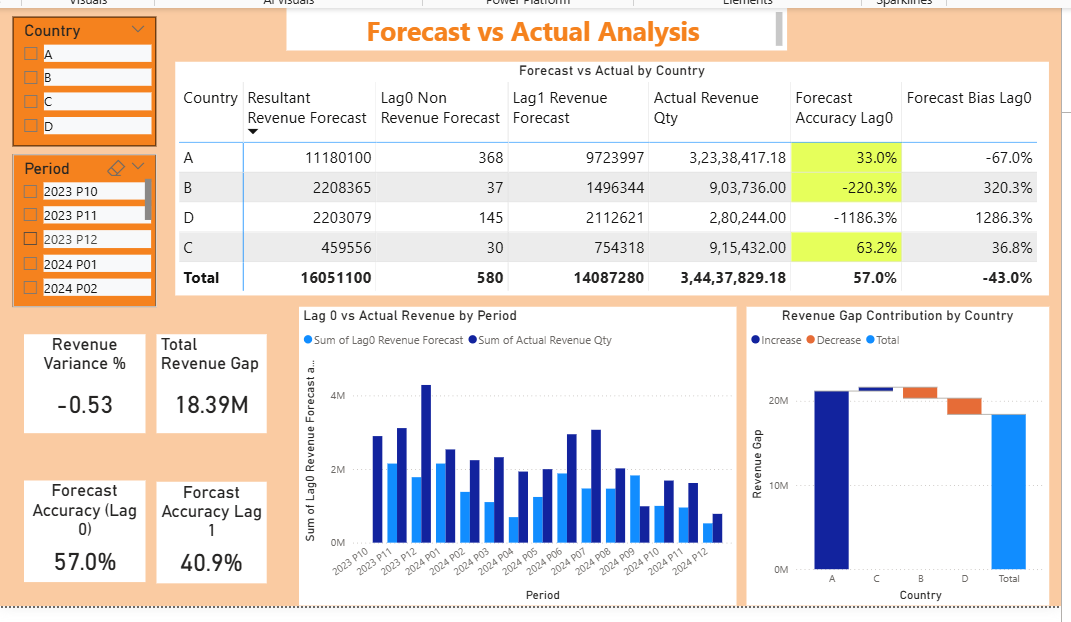

What the dashboard file says about the page in this screenshot:
{"tool":"powerbi","page":{"name":"Forecast vs Actual","canvas":[1280,720],"ordinal":1},"visuals":[{"type":"slicer","fields":{"Values":["DimCountry.Country"]},"box":[17.1,10,172.9,155.7],"z":0},{"type":"slicer","fields":{"Values":["DimPeriod.Period"]},"box":[17.1,175.7,172.9,184.3],"z":1000},{"type":"card","title":"Forecast Accuracy (Lag 0)","fields":{"Values":["ForecastWide.Forecast Accuracy Lag0"]},"box":[30.1,569.4,146.1,122],"z":2000},{"type":"pivotTable","title":"Forecast vs Actual by Country","fields":{"Rows":["DimCountry.Country"],"Values":["Sum(ForecastWide.Resultant Revenue Forecast)","Sum(ForecastWide.Lag0 Non Revenue Forecast)","Sum(ForecastWide.Lag1 Revenue Forecast)","Sum(ForecastWide.Actual Revenue Qty)","ForecastWide.Forecast Accuracy Lag0","ForecastWide.Forecast Bias Lag0"]},"box":[212.9,64.3,1052.9,281.4],"z":4000},{"type":"clusteredColumnChart","title":"Lag 0 vs Actual Revenue by Period","fields":{"Category":["DimPeriod.Period"],"Y":["Sum(ForecastWide.Lag0 Revenue Forecast)","Sum(ForecastWide.Actual Revenue Qty)"]},"box":[361.5,360,527.2,360],"z":5000},{"type":"textbox","box":[345.7,0,602.9,51.4],"z":11000},{"type":"card","title":"Forcast Accuracy Lag 1","fields":{"Values":["ForecastWide.Forecast Accuracy Lag1"]},"box":[189.8,570.9,132.5,122],"z":12001},{"type":"waterfallChart","title":"Revenue Gap Contribution by Country","fields":{"Category":["DimCountry.Country"],"Y":["ForecastWide.Revenue Gap"]},"box":[900.7,360,364.5,360],"z":12003},{"type":"card","title":"Total Revenue Gap","fields":{"Values":["ForecastWide.Revenue Gap"]},"box":[189.8,393.1,132.5,119],"z":12004},{"type":"card","title":"Revenue Variance %","fields":{"Values":["ForecastWide.Revenue Variance %"]},"box":[30.1,393.1,146.1,119],"z":12005}]}

Visuals, with their boxes on the page's 1280x720 design canvas (x1, y1, x2, y2). These are canvas units, not pixel positions in the 1071x622 screenshot, which may show the page scaled, cropped or inside an application window:
slicer - DimCountry.Country: detection(17, 10, 190, 166)
slicer - DimPeriod.Period: detection(17, 176, 190, 360)
"Forecast Accuracy (Lag 0)" card: detection(30, 569, 176, 691)
"Forecast vs Actual by Country" pivotTable: detection(213, 64, 1266, 346)
"Lag 0 vs Actual Revenue by Period" clusteredColumnChart: detection(362, 360, 889, 720)
textbox: detection(346, 0, 949, 51)
"Forcast Accuracy Lag 1" card: detection(190, 571, 322, 693)
"Revenue Gap Contribution by Country" waterfallChart: detection(901, 360, 1265, 720)
"Total Revenue Gap" card: detection(190, 393, 322, 512)
"Revenue Variance %" card: detection(30, 393, 176, 512)
